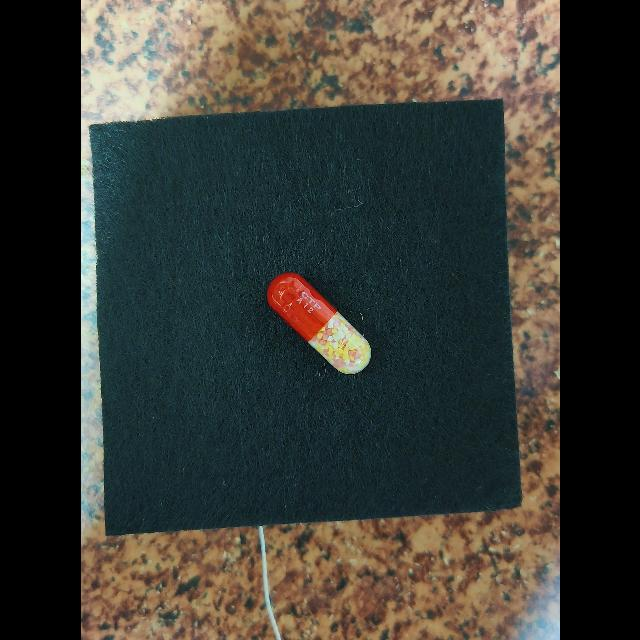Intact Capsule: (266, 272, 371, 374)
